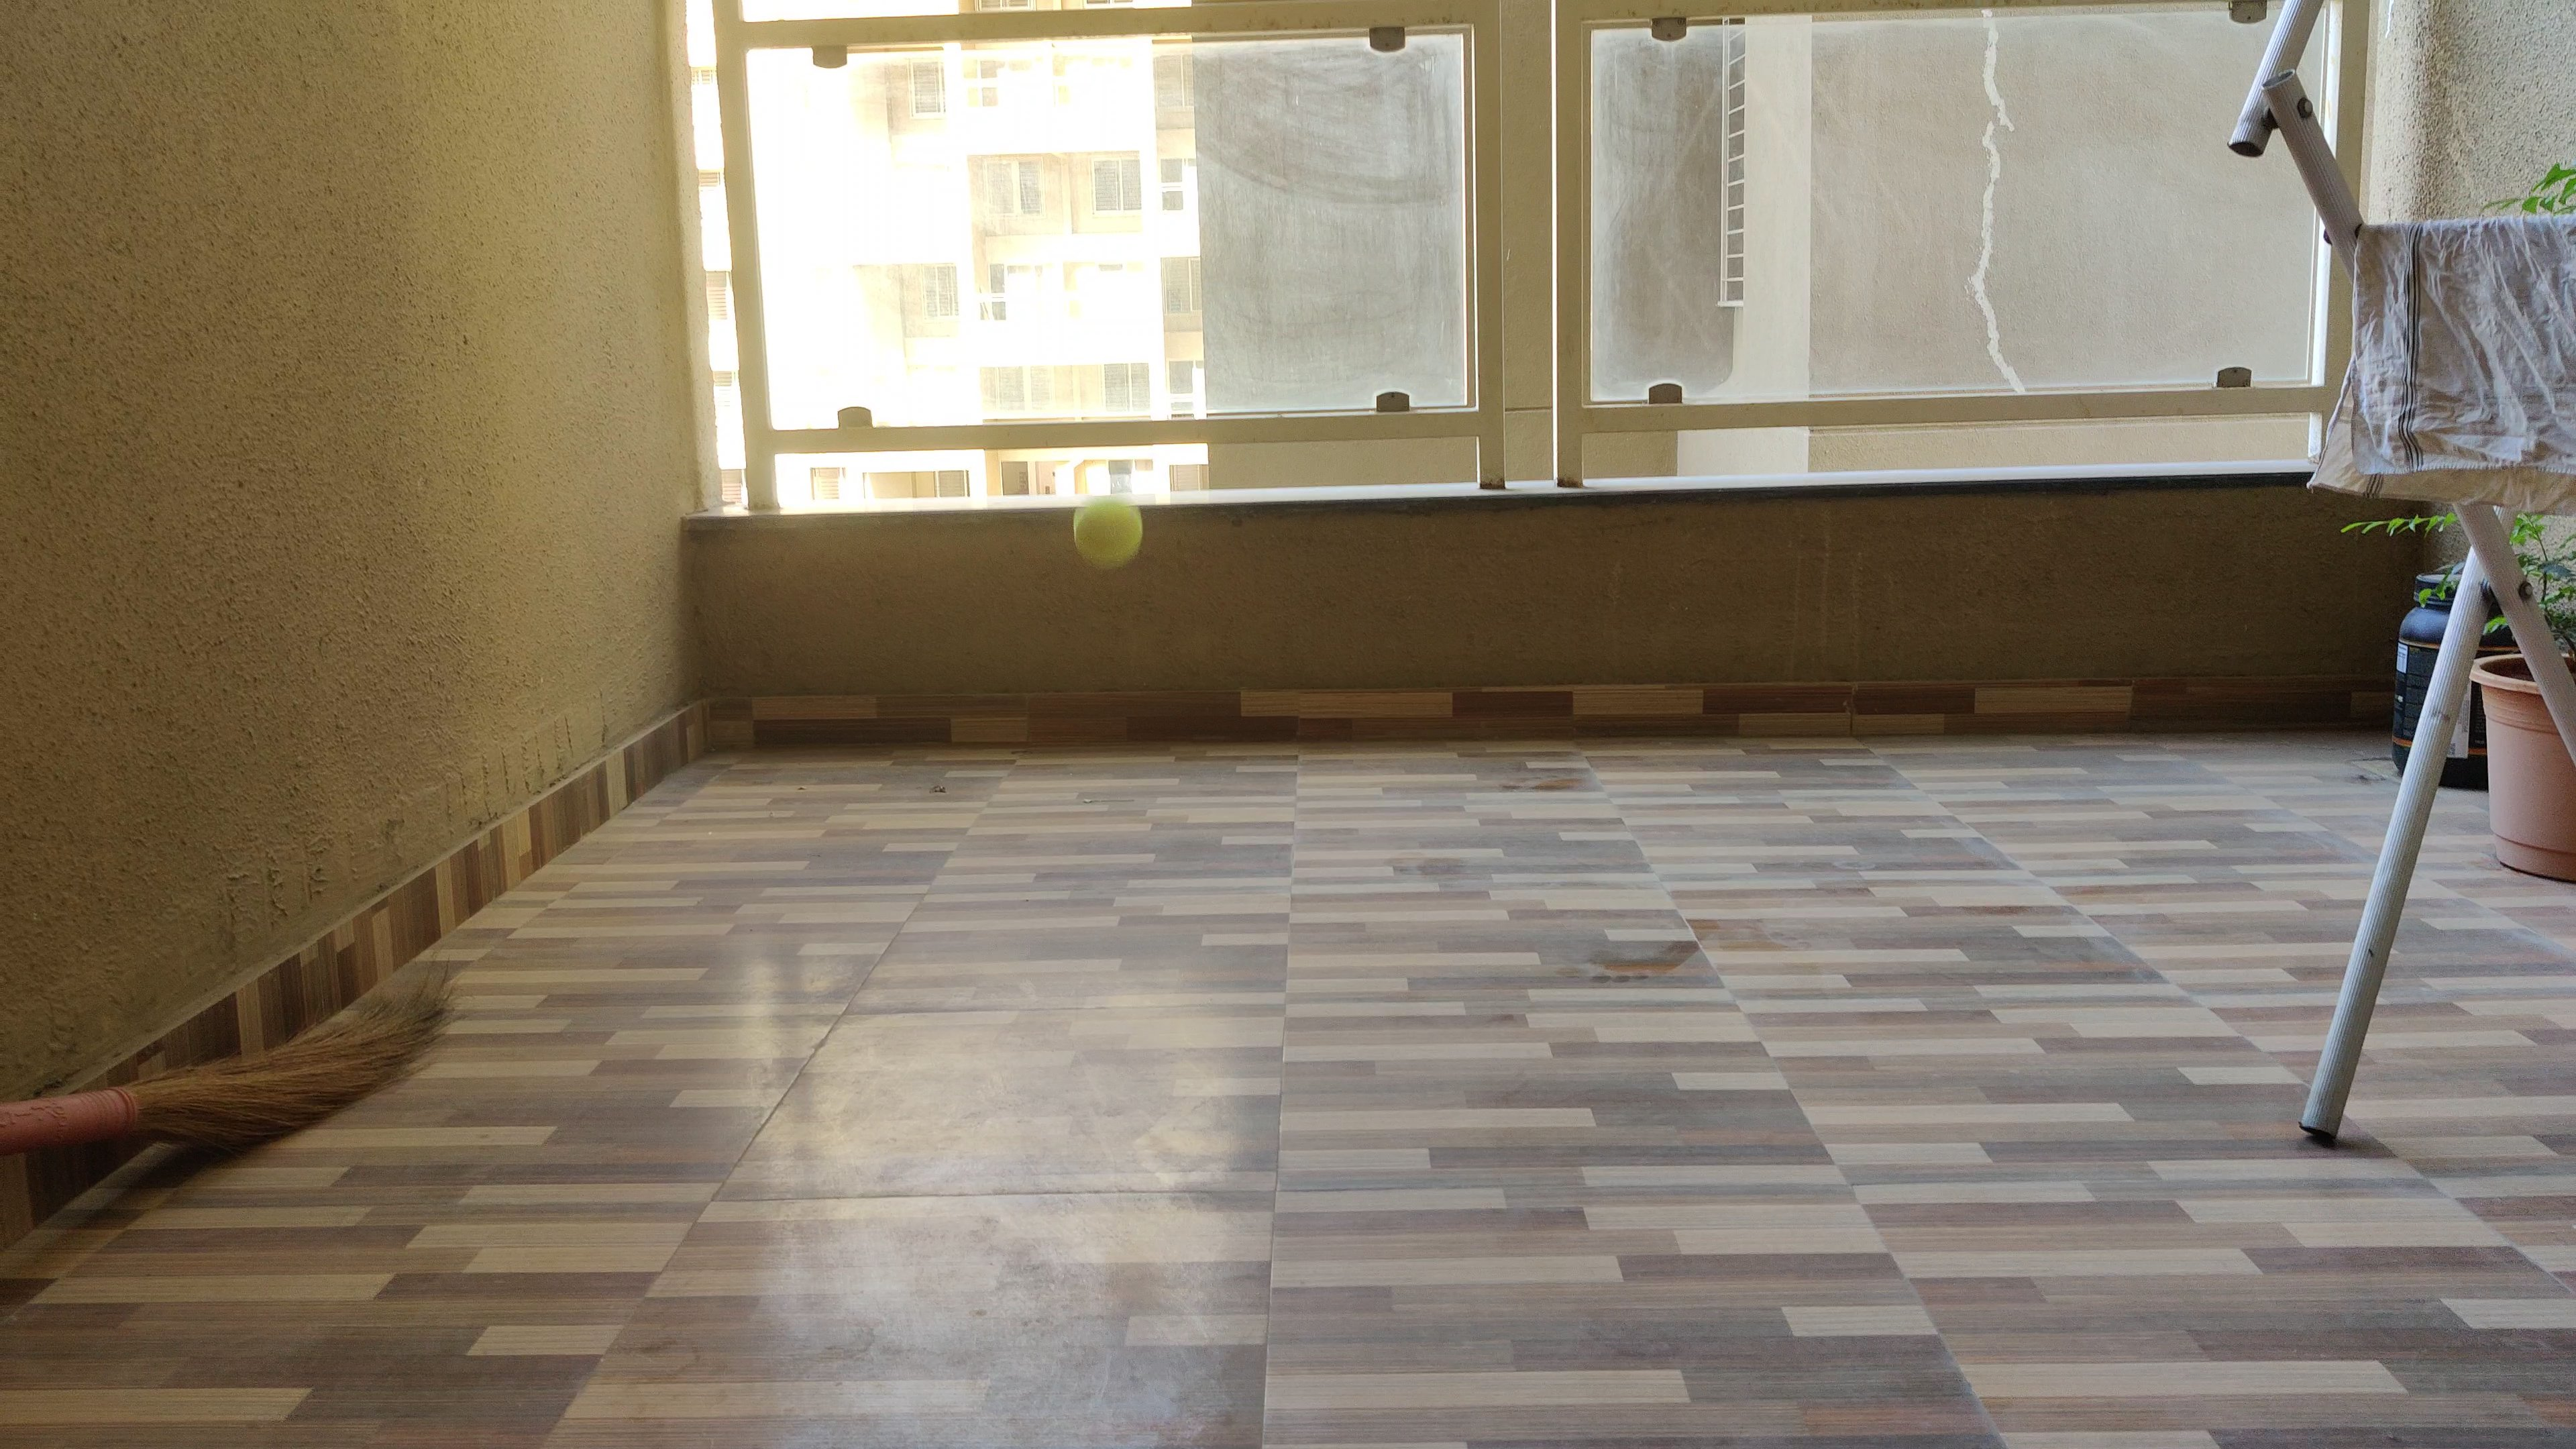Tennis-Ball: (1073, 497, 1143, 566)
